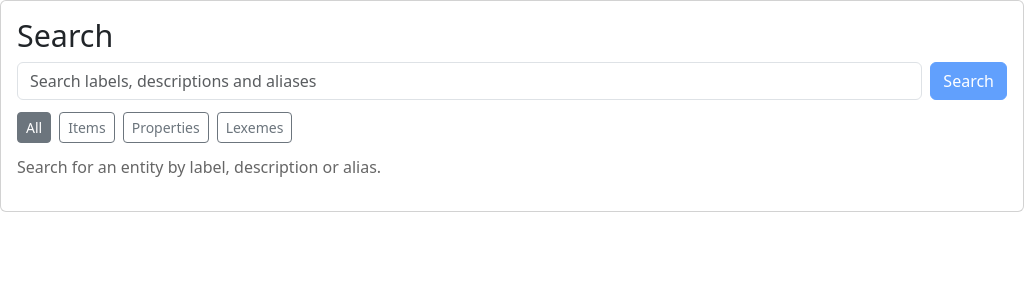
SearchView › searches what was typed and lists the hits
Step 1. Type "douglas" into the search field with test id "search-input" → point(470, 80), box [17, 62, 922, 100]
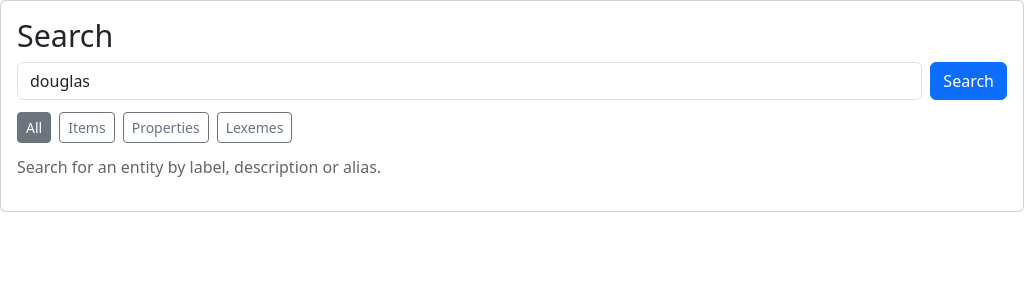
Step 2. Submit the form with test id "search-form", box [17, 62, 1007, 100]
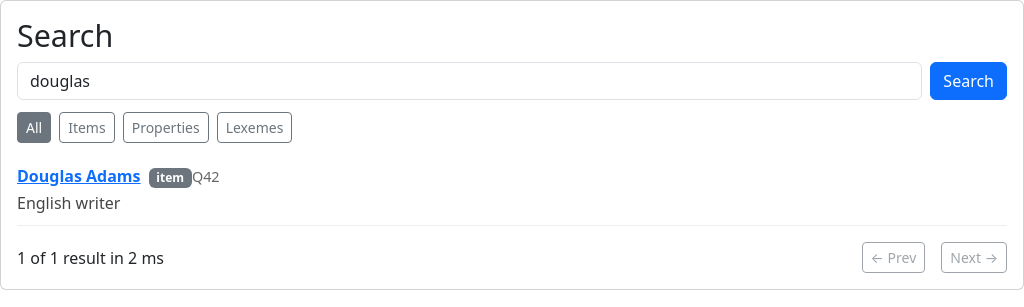
Now the link with test id "search-result-link" reads "Douglas Adams", box [17, 165, 140, 187]
Now the text with test id "search-result-type" reads "item", box [156, 169, 184, 186]
Now the text with test id "search-result-id" reads "Q42", box [192, 167, 220, 186]
